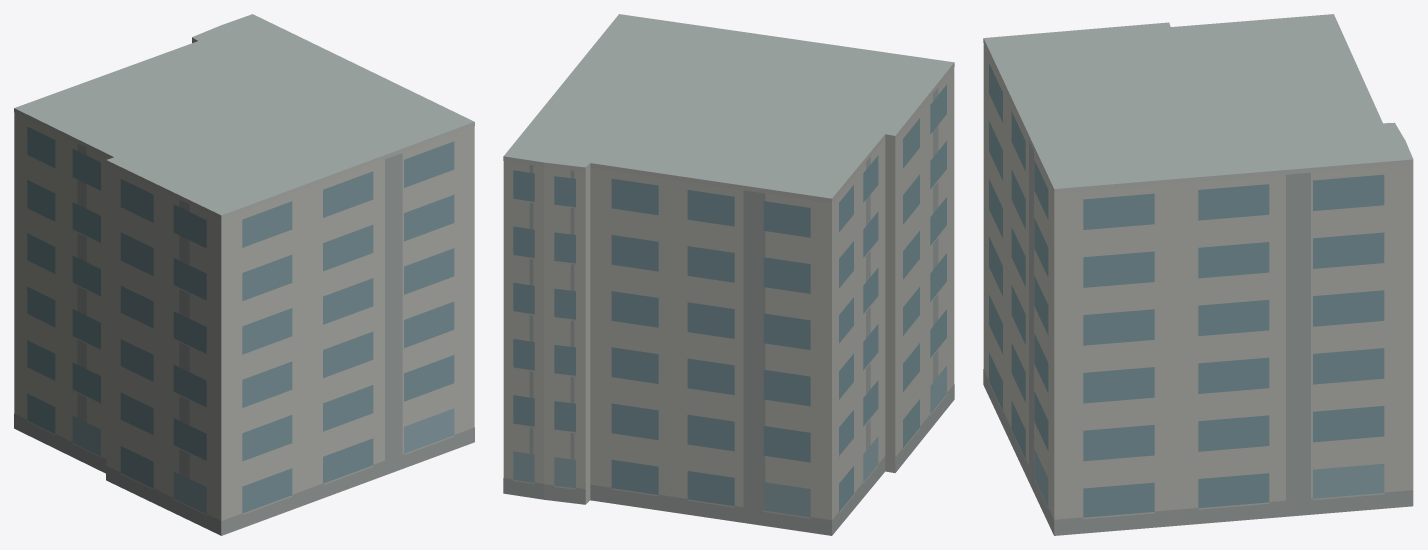
The model's file is survey-upis-32506152.glb.
The picture shows the model from 3 angles, left to right: view 1: azimuth 30°, elevation 25°; view 2: azimuth 150°, elevation 25°; view 3: azimuth 270°, elevation 25°; orthographic projection. The views are drawn at different scales.
Visible parts, largest first — view 1: survey-upis-32506152.tmp; view 2: survey-upis-32506152.tmp; view 3: survey-upis-32506152.tmp.
Boxes of the visible parts, x1,y1,x2,y2 form: survey-upis-32506152.tmp: [14, 14, 474, 535]; survey-upis-32506152.tmp: [503, 14, 954, 535]; survey-upis-32506152.tmp: [983, 14, 1413, 535].
Size of the model in its own units: 19.39 by 17.9 by 20.12.
